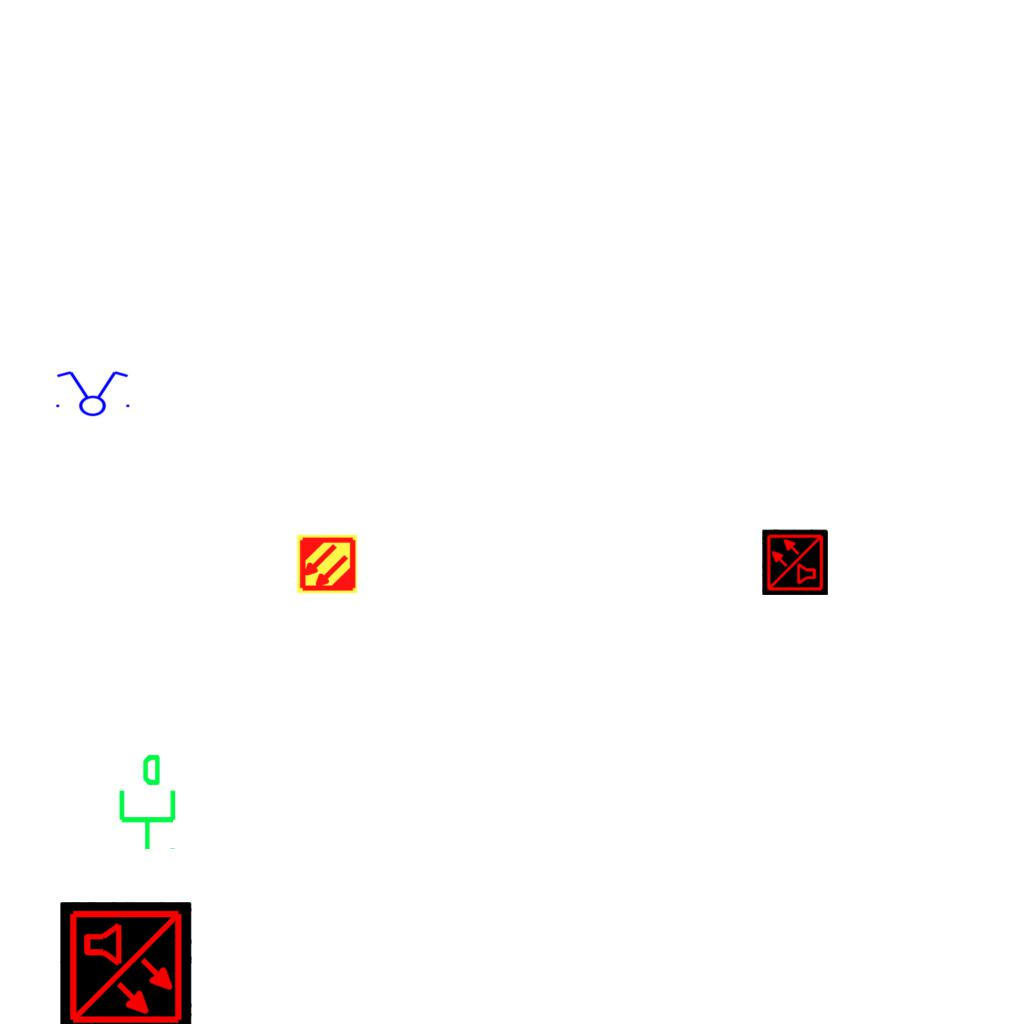ASR_Ansaugrauchmelder: (296, 533, 358, 595)
Datenanschluss_einfach: (111, 752, 180, 852)
OKW_Multisensormelder_(Kombination_optischer_Rauch-Kahlenmonoxid_Waerme-Melder): (60, 902, 192, 1024), (762, 529, 828, 595)
Serienschalter: (50, 369, 134, 417)
